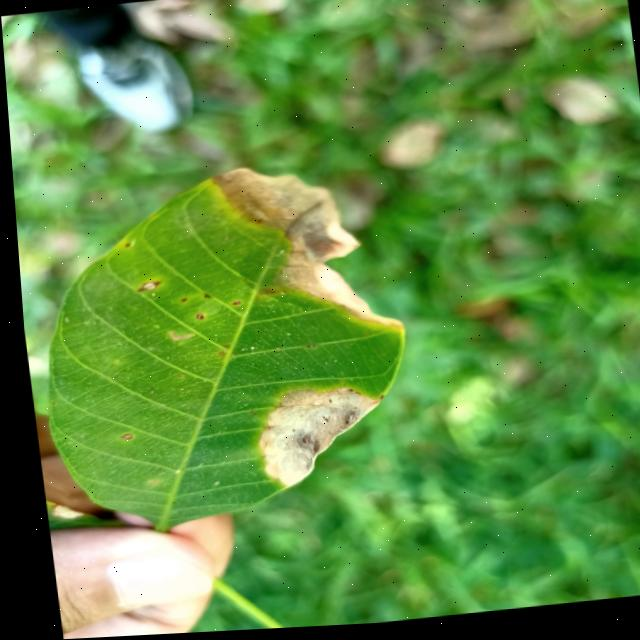Colletotrichum: (137, 282, 153, 294), (115, 434, 126, 442), (303, 348, 309, 351)
Leaf-Blight: (210, 157, 398, 349), (246, 386, 381, 491)
